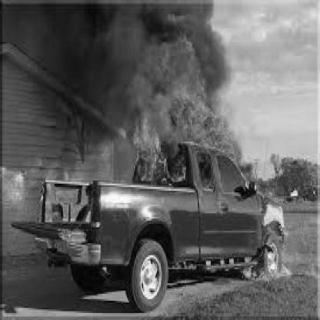Fire: (126, 15, 248, 187)
Smoke: (36, 1, 136, 120)
